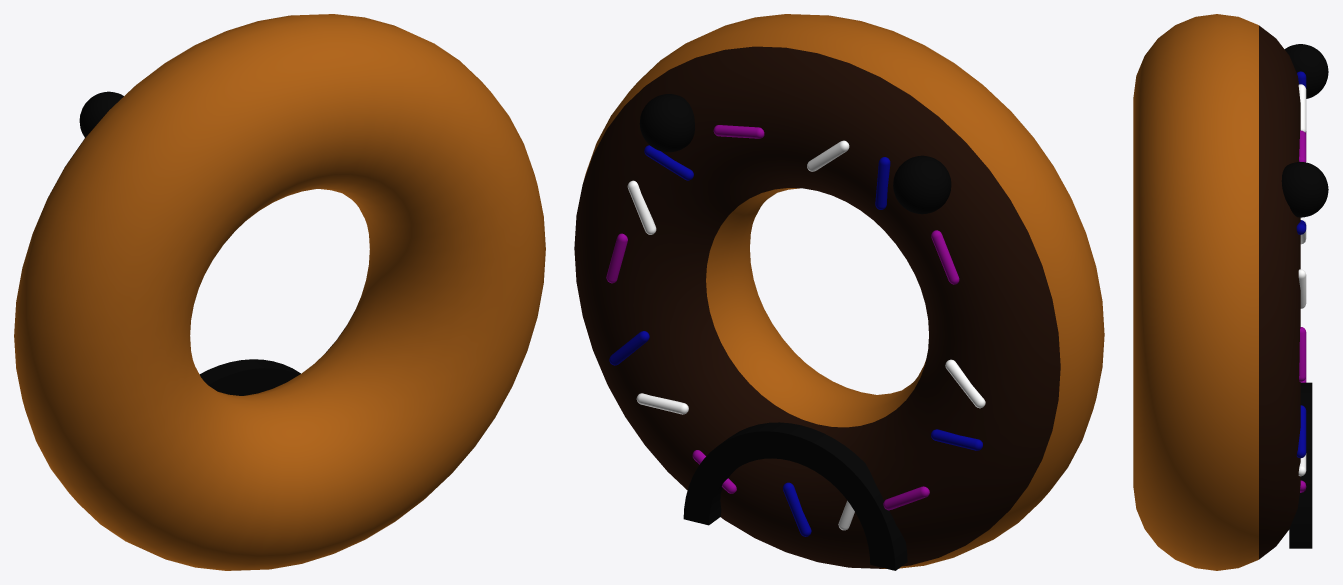
File: donut.FBX
3 views of the same model, side by side, from view 1: azimuth 30°, elevation 25°; view 2: azimuth 150°, elevation 25°; view 3: azimuth 270°, elevation 25° (orthographic). The views are drawn at different scales.
Visible parts, largest first — view 1: Torus001; view 2: Torus001; view 3: Torus001.
Part boxes in pixels (bbox=[...]): Torus001: bbox=[14, 14, 545, 570]; Torus001: bbox=[574, 14, 1104, 570]; Torus001: bbox=[1133, 14, 1328, 570].
Bounding box in the file's own units: 100 × 100 × 35.
